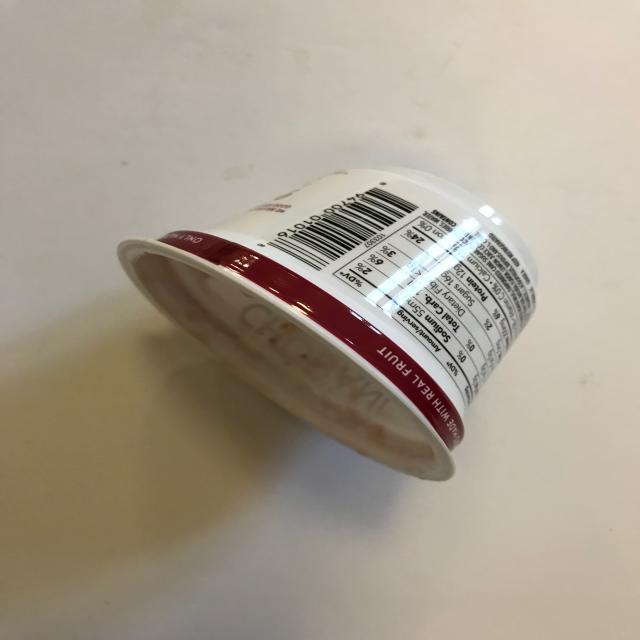trash: (116, 165, 539, 482)
